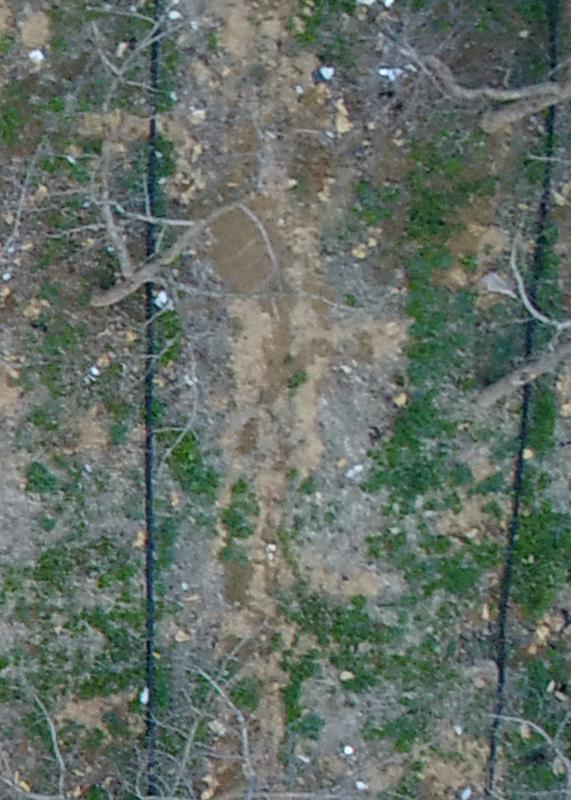apple: (73, 17, 290, 436), (10, 670, 409, 790)
